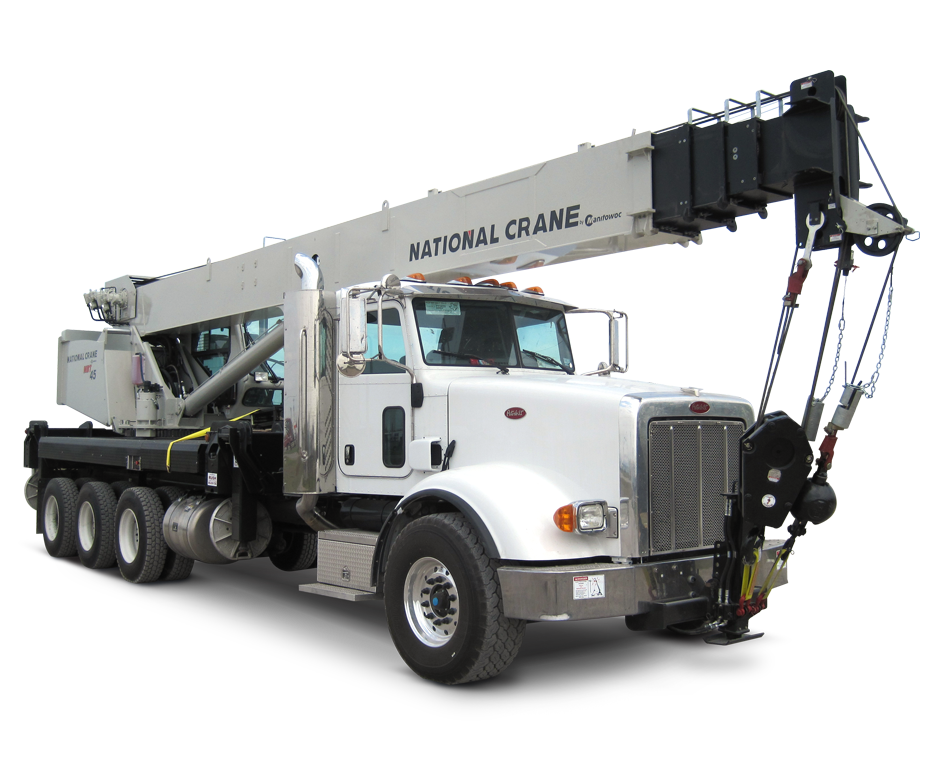crane: (19, 57, 911, 690)
